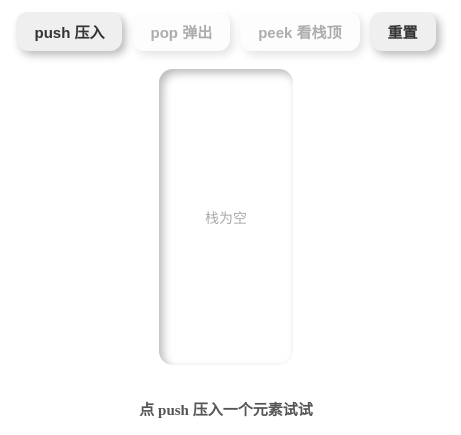
Scenario: StackViz › TC-VIZ-STACKVIZ-02 push 增加一个盘子、值为递增序号
Click the button "push 压入".
click(70, 32)  # box [16,12,122,51]
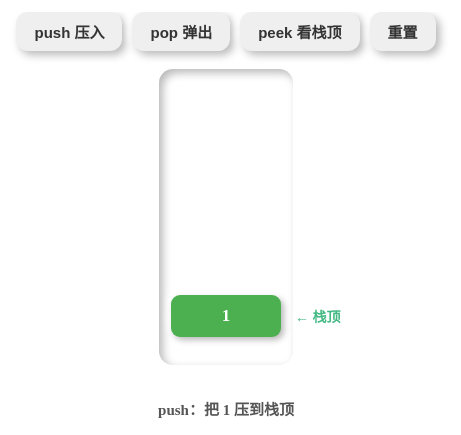
expect the text "1" is shown: met, box [171,295,281,337]
